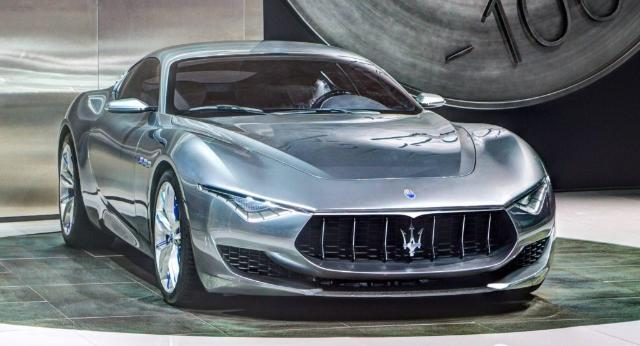maserati: (58, 41, 556, 307)
